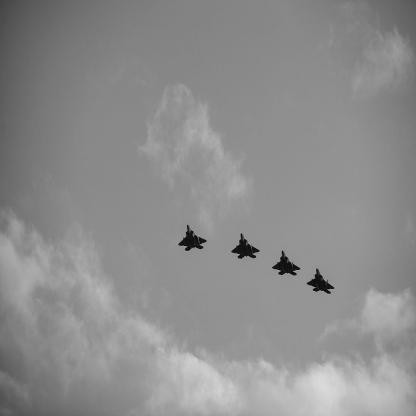F22: (179, 225, 208, 252), (232, 234, 261, 260), (273, 251, 301, 277), (308, 269, 336, 295)
